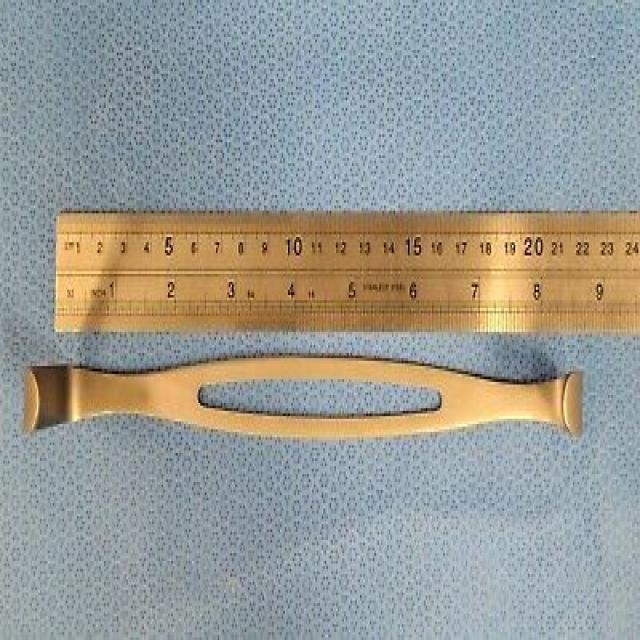Army Navy Retractor: (21, 342, 590, 452)
